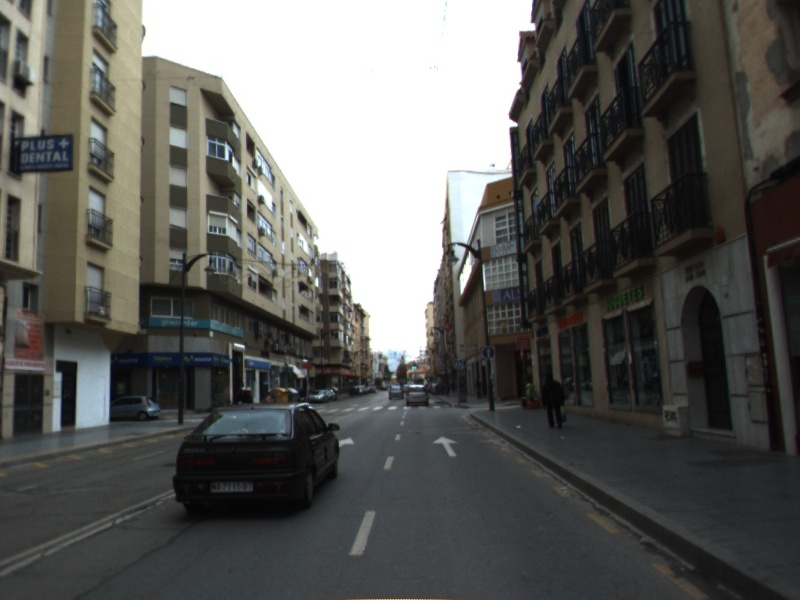STRAIGHT: (431, 434, 460, 458)
